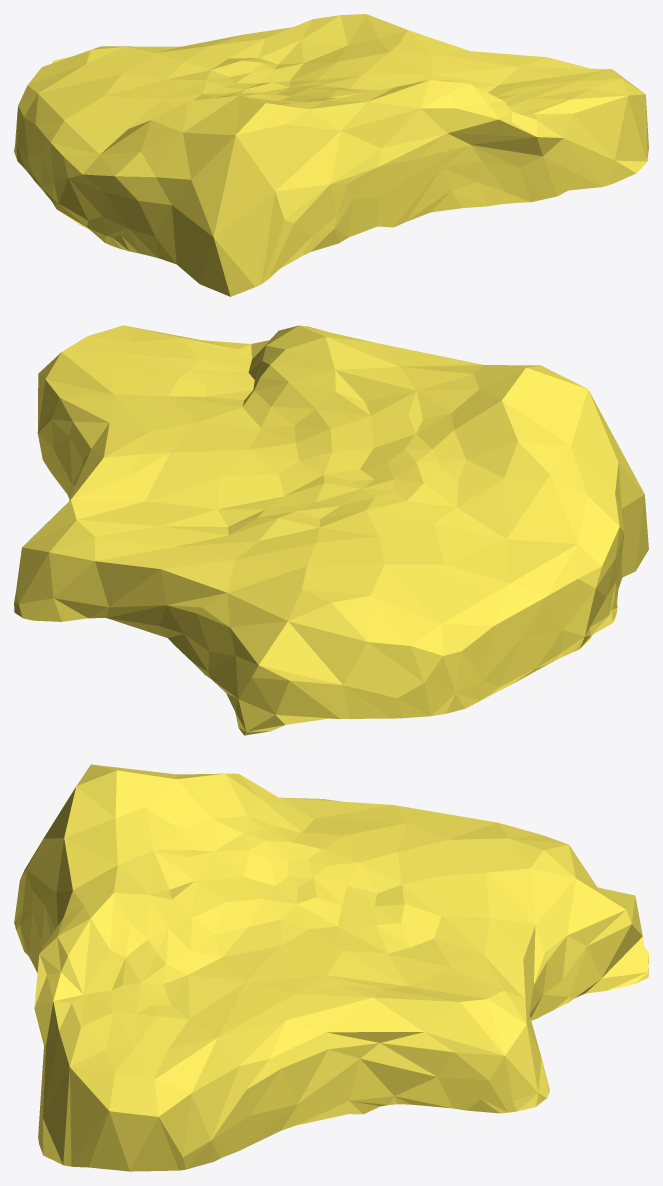
Rendered from ground_019.fbx.
The picture shows the model from 3 angles, top to bottom: view 1: azimuth 30°, elevation 25°; view 2: azimuth 150°, elevation 25°; view 3: azimuth 270°, elevation 25°; orthographic projection. The views are drawn at different scales.
Visible parts, largest first — view 1: ground.019; view 2: ground.019; view 3: ground.019.
Part boxes in pixels (x1=…): ground.019: x1=14, y1=14, x2=648, y2=296; ground.019: x1=14, y1=325, x2=648, y2=735; ground.019: x1=14, y1=764, x2=648, y2=1171.
Size of the model in its own units: 2519 by 732 by 2127.
1 material, 1 textured.
